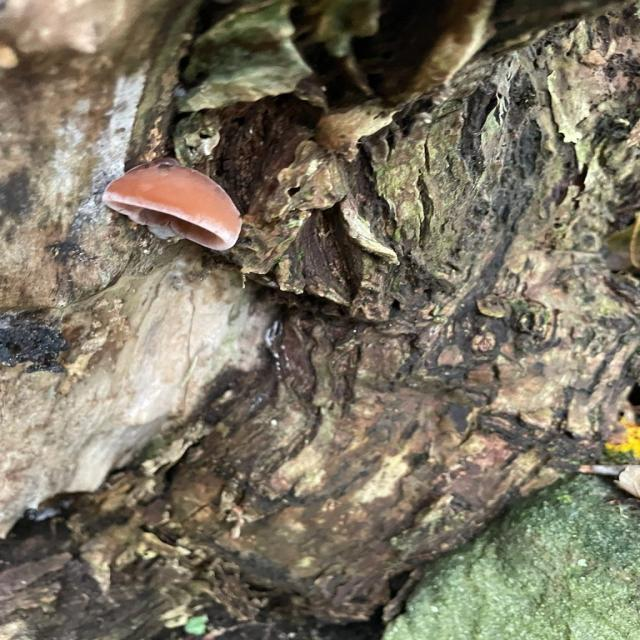Matang: (100, 162, 242, 250)
